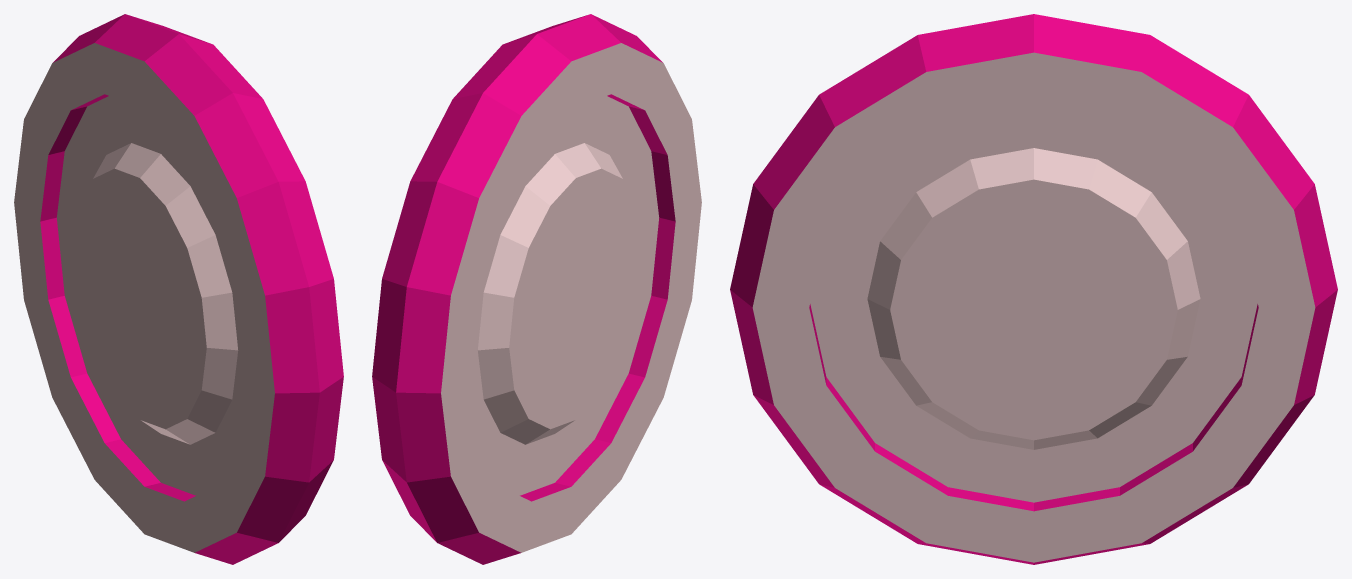
The model's file is tire_sofia_mesh.glb.
3 renders of one model, left to right at view 1: azimuth 30°, elevation 25°; view 2: azimuth 150°, elevation 25°; view 3: azimuth 270°, elevation 25°, orthographic. The views are drawn at different scales.
Parts seen in each view (by area): view 1: Cylinder; view 2: Cylinder; view 3: Cylinder.
Part boxes in pixels (x1=…): Cylinder: x1=14, y1=14, x2=343, y2=564; Cylinder: x1=372, y1=14, x2=701, y2=564; Cylinder: x1=730, y1=14, x2=1337, y2=564.
Size of the model in its own units: 0.2145 by 1.35 by 1.35.
